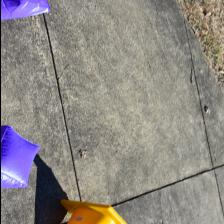cone: (58, 199, 126, 224)
cube: (0, 125, 40, 188), (0, 0, 50, 20)
